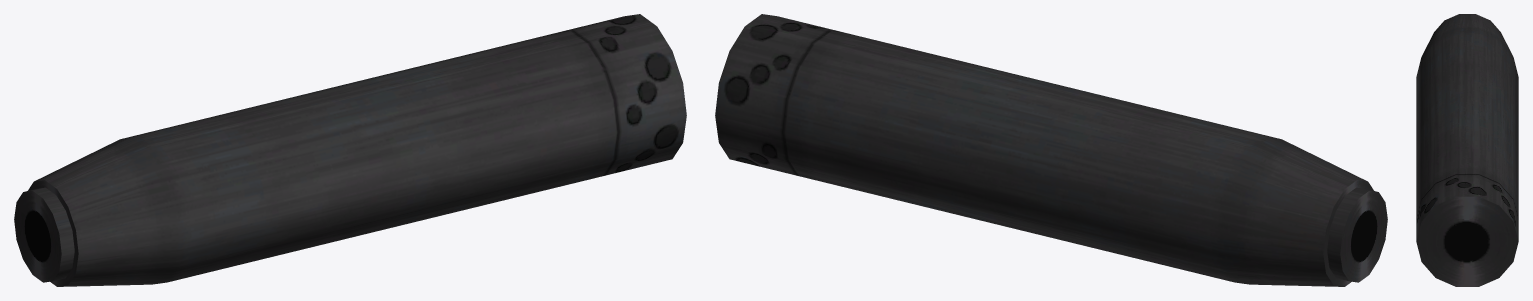
File: t6_attach_sniper_silencer1_view_LOD0.obj
The picture shows the model from 3 angles, left to right: view 1: azimuth 30°, elevation 25°; view 2: azimuth 150°, elevation 25°; view 3: azimuth 270°, elevation 25°; orthographic projection. The views are drawn at different scales.
Parts seen in each view (by area): view 1: mtl_t6_attach_sniper_silencer1; view 2: mtl_t6_attach_sniper_silencer1; view 3: mtl_t6_attach_sniper_silencer1.
Boxes of the visible parts, x1=… form: mtl_t6_attach_sniper_silencer1: x1=14, y1=14, x2=686, y2=286; mtl_t6_attach_sniper_silencer1: x1=715, y1=14, x2=1387, y2=286; mtl_t6_attach_sniper_silencer1: x1=1416, y1=14, x2=1518, y2=286.
Size of the model in its own units: 33.75 by 7.13 by 7.31.
